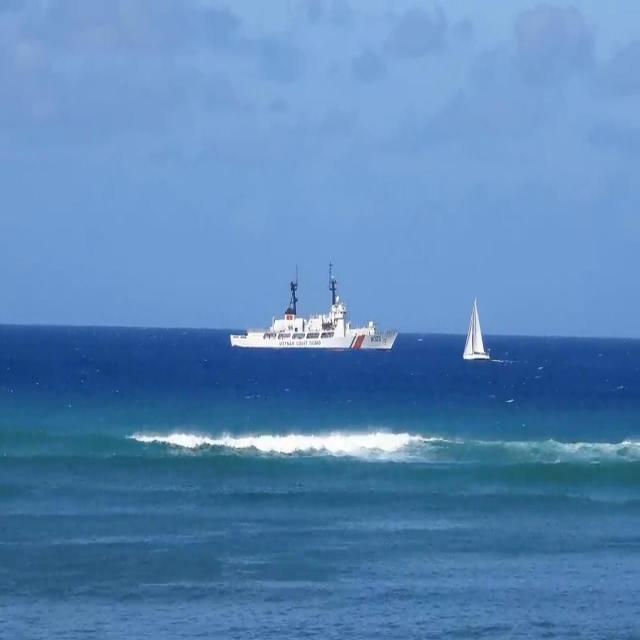Ship: (230, 273, 400, 356), (463, 296, 492, 360)
